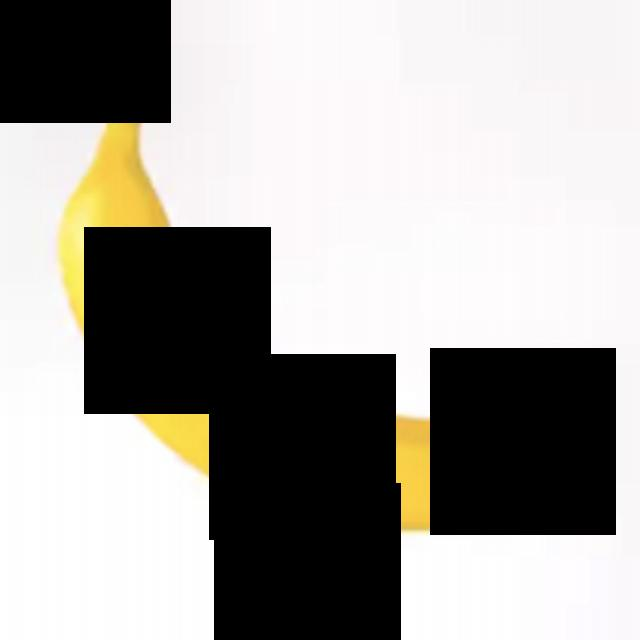banana: (0, 0, 638, 567)
